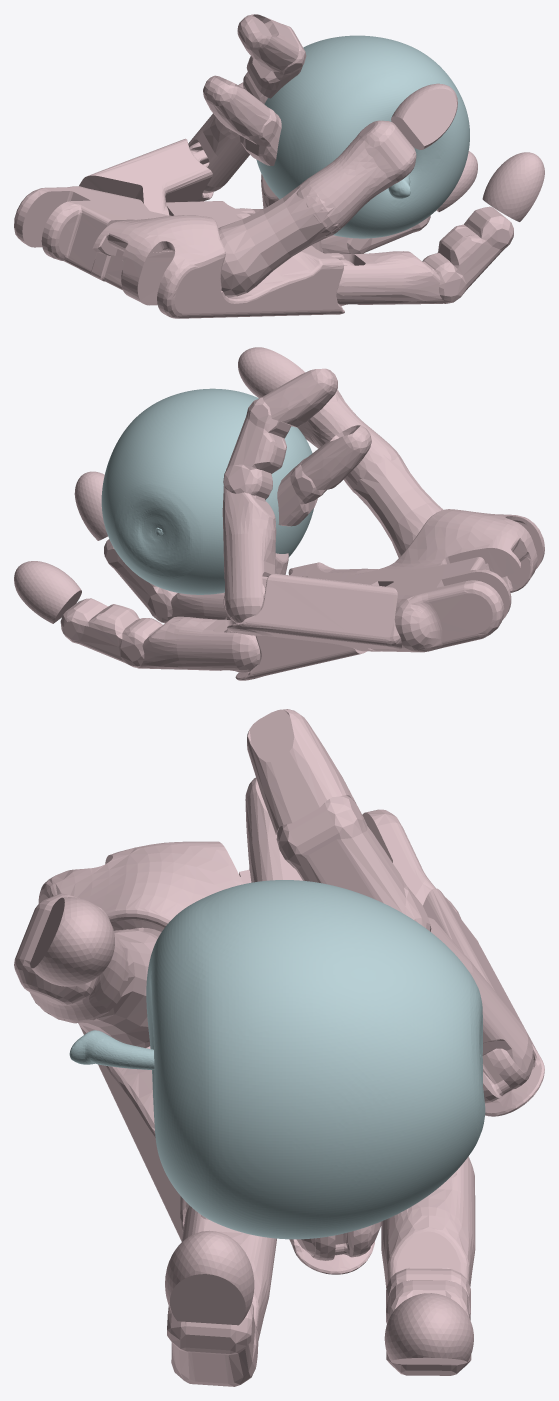
File: grasp_8.glb
3 renders of one model, top to bottom at view 1: azimuth 30°, elevation 25°; view 2: azimuth 150°, elevation 25°; view 3: azimuth 270°, elevation 25°, orthographic. The views are drawn at different scales.
Visible parts, largest first — view 1: world; view 2: world; view 3: world.
Part boxes in pixels (x1,y1,x2,y2): world: [14, 14, 544, 318]; world: [14, 347, 544, 680]; world: [14, 709, 544, 1386].
Size of the model in its own units: 0.201 by 0.1243 by 0.1128.
